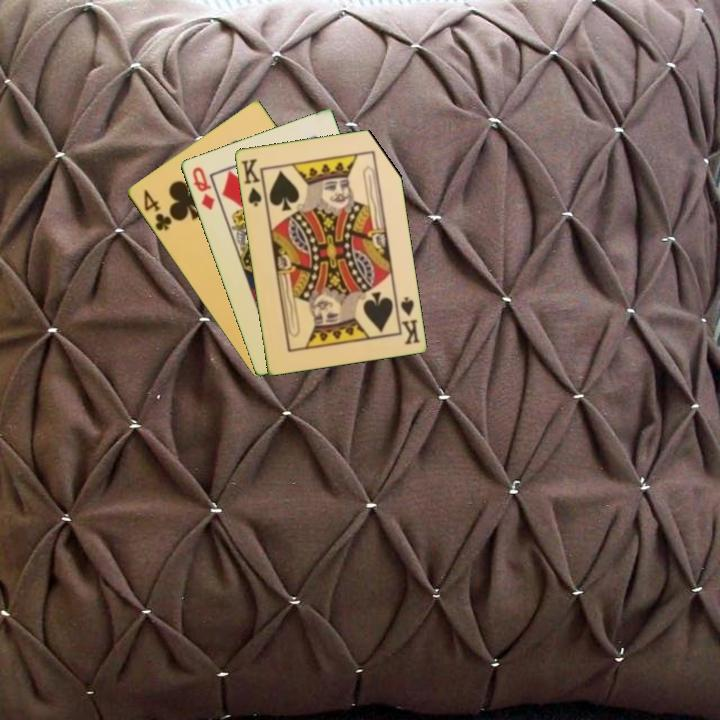4c: (140, 186, 175, 234)
Ks: (392, 293, 423, 347), (238, 155, 268, 209)
Qd: (189, 163, 217, 213)
